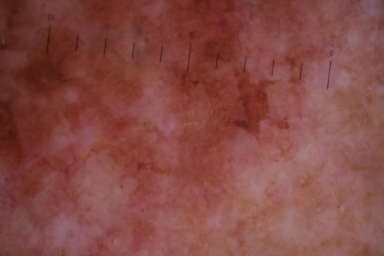melanoma: (1, 1, 309, 205)
